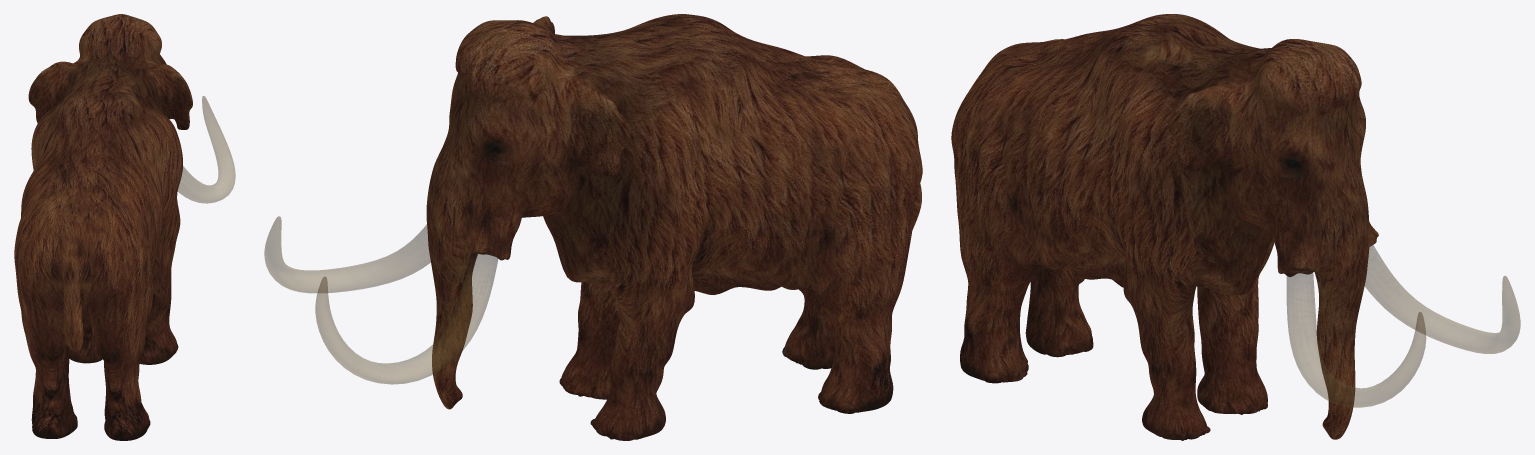
The model's file is mammoth.glb.
The picture shows the model from 3 angles, left to right: view 1: azimuth 30°, elevation 25°; view 2: azimuth 150°, elevation 25°; view 3: azimuth 270°, elevation 25°; orthographic projection. The views are drawn at different scales.
Visible parts, largest first — view 1: 12229_mammmoth_v1_L3; view 2: 12229_mammmoth_v1_L3; view 3: 12229_mammmoth_v1_L3.
Part boxes in pixels (x1,y1,x2,y2): 12229_mammmoth_v1_L3: [14, 14, 235, 440]; 12229_mammmoth_v1_L3: [264, 14, 922, 440]; 12229_mammmoth_v1_L3: [951, 14, 1520, 440].
Size of the model in its own units: 199 by 171 by 218.
2 materials, 2 textured.
